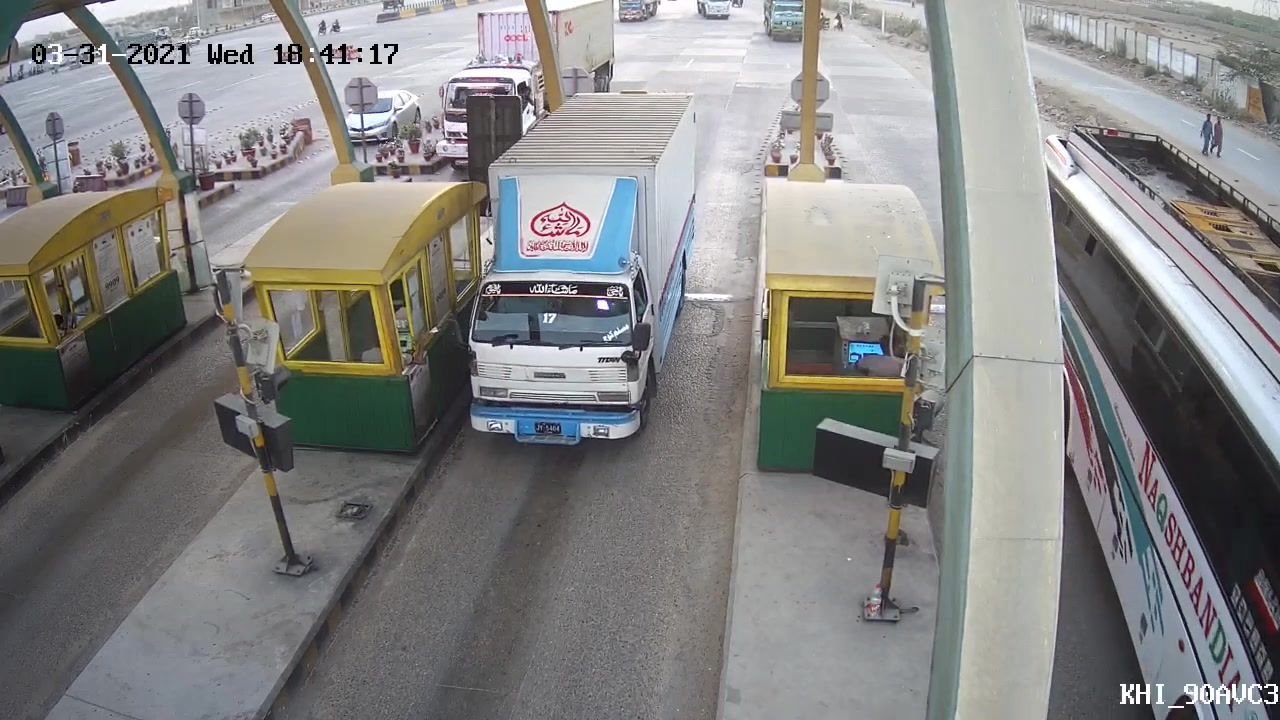F3: (445, 85, 719, 458)
